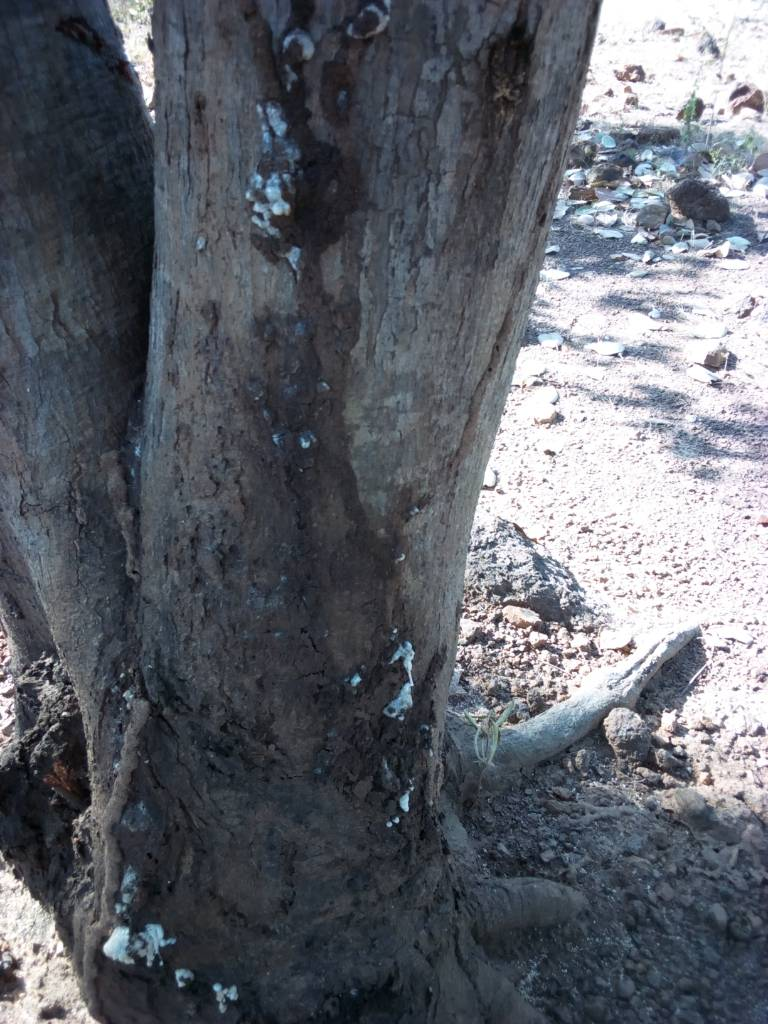Termites: (177, 347, 294, 817), (305, 274, 421, 575)
